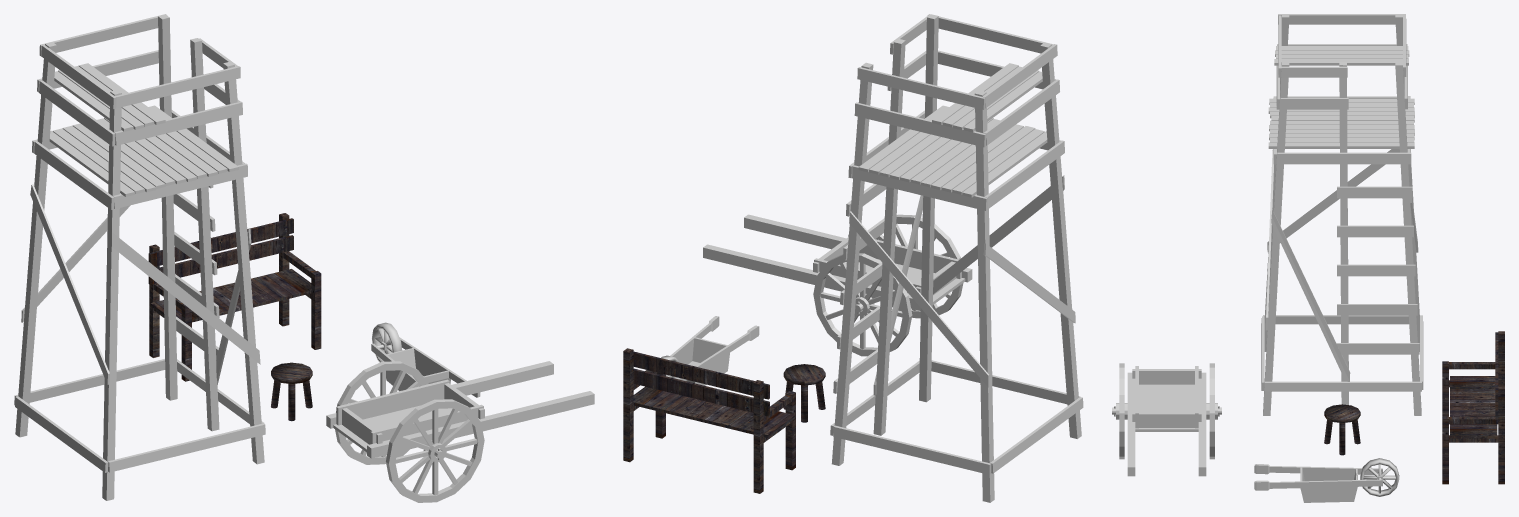
The model's file is Props2.glb.
3 renders of one model, left to right at view 1: azimuth 30°, elevation 25°; view 2: azimuth 150°, elevation 25°; view 3: azimuth 270°, elevation 25°, orthographic. The views are drawn at different scales.
Parts seen in each view (by area): view 1: WoodenTower, Wagon, Bench, WheelBarrow, Stool; view 2: WoodenTower, Bench, Wagon, WheelBarrow, Stool; view 3: WoodenTower, Wagon, Bench, WheelBarrow, Stool.
Part boxes in pixels (left/top/right/bottom): WoodenTower: left=14, top=14, right=265, bottom=500; Wagon: left=326, top=361, right=594, bottom=502; Bench: left=148, top=213, right=321, bottom=381; WheelBarrow: left=371, top=322, right=480, bottom=397; Stool: left=271, top=362, right=312, bottom=421; WoodenTower: left=830, top=14, right=1083, bottom=502; Bench: left=623, top=348, right=795, bottom=493; Wagon: left=703, top=214, right=972, bottom=356; WheelBarrow: left=661, top=316, right=759, bottom=385; Stool: left=783, top=364, right=825, bottom=422; WoodenTower: left=1261, top=14, right=1423, bottom=415; Wagon: left=1112, top=363, right=1221, bottom=476; Bench: left=1442, top=331, right=1504, bottom=484; WheelBarrow: left=1254, top=458, right=1399, bottom=502; Stool: left=1324, top=404, right=1360, bottom=455.
Size of what is drawn, in the model's own units: 4.38 by 4.02 by 4.16.
Materials: 2 (1 with a texture image).
